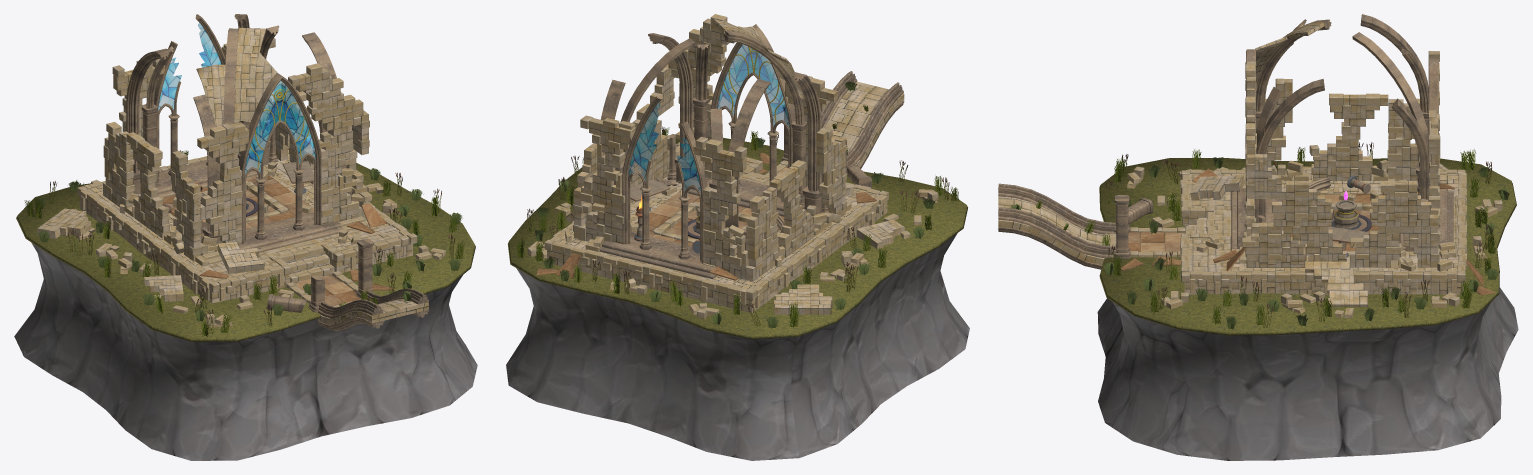
Rendered from elven.glb.
The picture shows the model from 3 angles, left to right: view 1: azimuth 30°, elevation 25°; view 2: azimuth 150°, elevation 25°; view 3: azimuth 270°, elevation 25°; orthographic projection. The views are drawn at different scales.
Parts seen in each view (by area): view 1: Cliff Side, Grass Ground, Ruins floor, Arch roof, Ruins great wall, Glass _Glass_0, brick cube 2.002, Arch main door, Entrance base, brick wall broken.005, aech profile 2.004, Tiels ref.005 (+36 smaller); view 2: Cliff Side, Grass Ground, Bridge road, brick cube 2.013, brick cube 2.002, Ruins floor, Plane.004, Glass _Glass_0, Entrance base 2, Arch main door.003, Glass .002, aech profile 2.001 (+38 smaller); view 3: Cliff Side, Grass Ground, Ruins floor, Ruins great wall, brick cube 2.008, brick wall broken.010, Broken wall 4.003, Bridge road, Broken wall 3.001, brick wall broken.014, Broken wall 4.001, aech profile 2.005 (+24 smaller).
Boxes of the visible parts, box(x1,y1,x2,y2) form: Cliff Side: box(14, 242, 477, 460); Grass Ground: box(16, 163, 475, 341); Ruins floor: box(87, 150, 408, 283); Arch roof: box(234, 27, 277, 122); Ruins great wall: box(79, 196, 412, 303); Glass _Glass_0: box(245, 80, 315, 173); brick cube 2.002: box(77, 186, 219, 300); Arch main door: box(239, 73, 321, 244); Entrance base: box(238, 212, 344, 252); brick wall broken.005: box(200, 170, 241, 219); aech profile 2.004: box(126, 48, 170, 173); Tiels ref.005: box(162, 175, 313, 236); Cliff Side: box(506, 233, 969, 460); Grass Ground: box(507, 137, 967, 339); Bridge road: box(825, 81, 904, 167); brick cube 2.013: box(552, 241, 748, 304); brick cube 2.002: box(746, 190, 888, 308); Ruins floor: box(557, 152, 879, 289); Plane.004: box(547, 248, 751, 312); Glass _Glass_0: box(717, 44, 789, 127); Entrance base 2: box(599, 231, 717, 278); Arch main door.003: box(622, 93, 707, 263); Glass .002: box(628, 102, 700, 192); aech profile 2.001: box(648, 33, 693, 159); Cliff Side: box(1097, 287, 1518, 460); Grass Ground: box(1099, 157, 1516, 335); Ruins floor: box(1188, 172, 1458, 274); Ruins great wall: box(1184, 275, 1463, 295); brick cube 2.008: box(1181, 271, 1465, 294); brick wall broken.010: box(1272, 181, 1332, 226); Broken wall 4.003: box(1370, 181, 1431, 226); Bridge road: box(998, 196, 1104, 264); Broken wall 3.001: box(1305, 261, 1367, 306); brick wall broken.014: box(1245, 222, 1306, 267); Broken wall 4.001: box(1311, 136, 1371, 180); aech profile 2.005: box(998, 207, 1116, 258).
Size of the model in its own units: 8.99 by 8.19 by 11.18.
5 materials, 5 textured.
